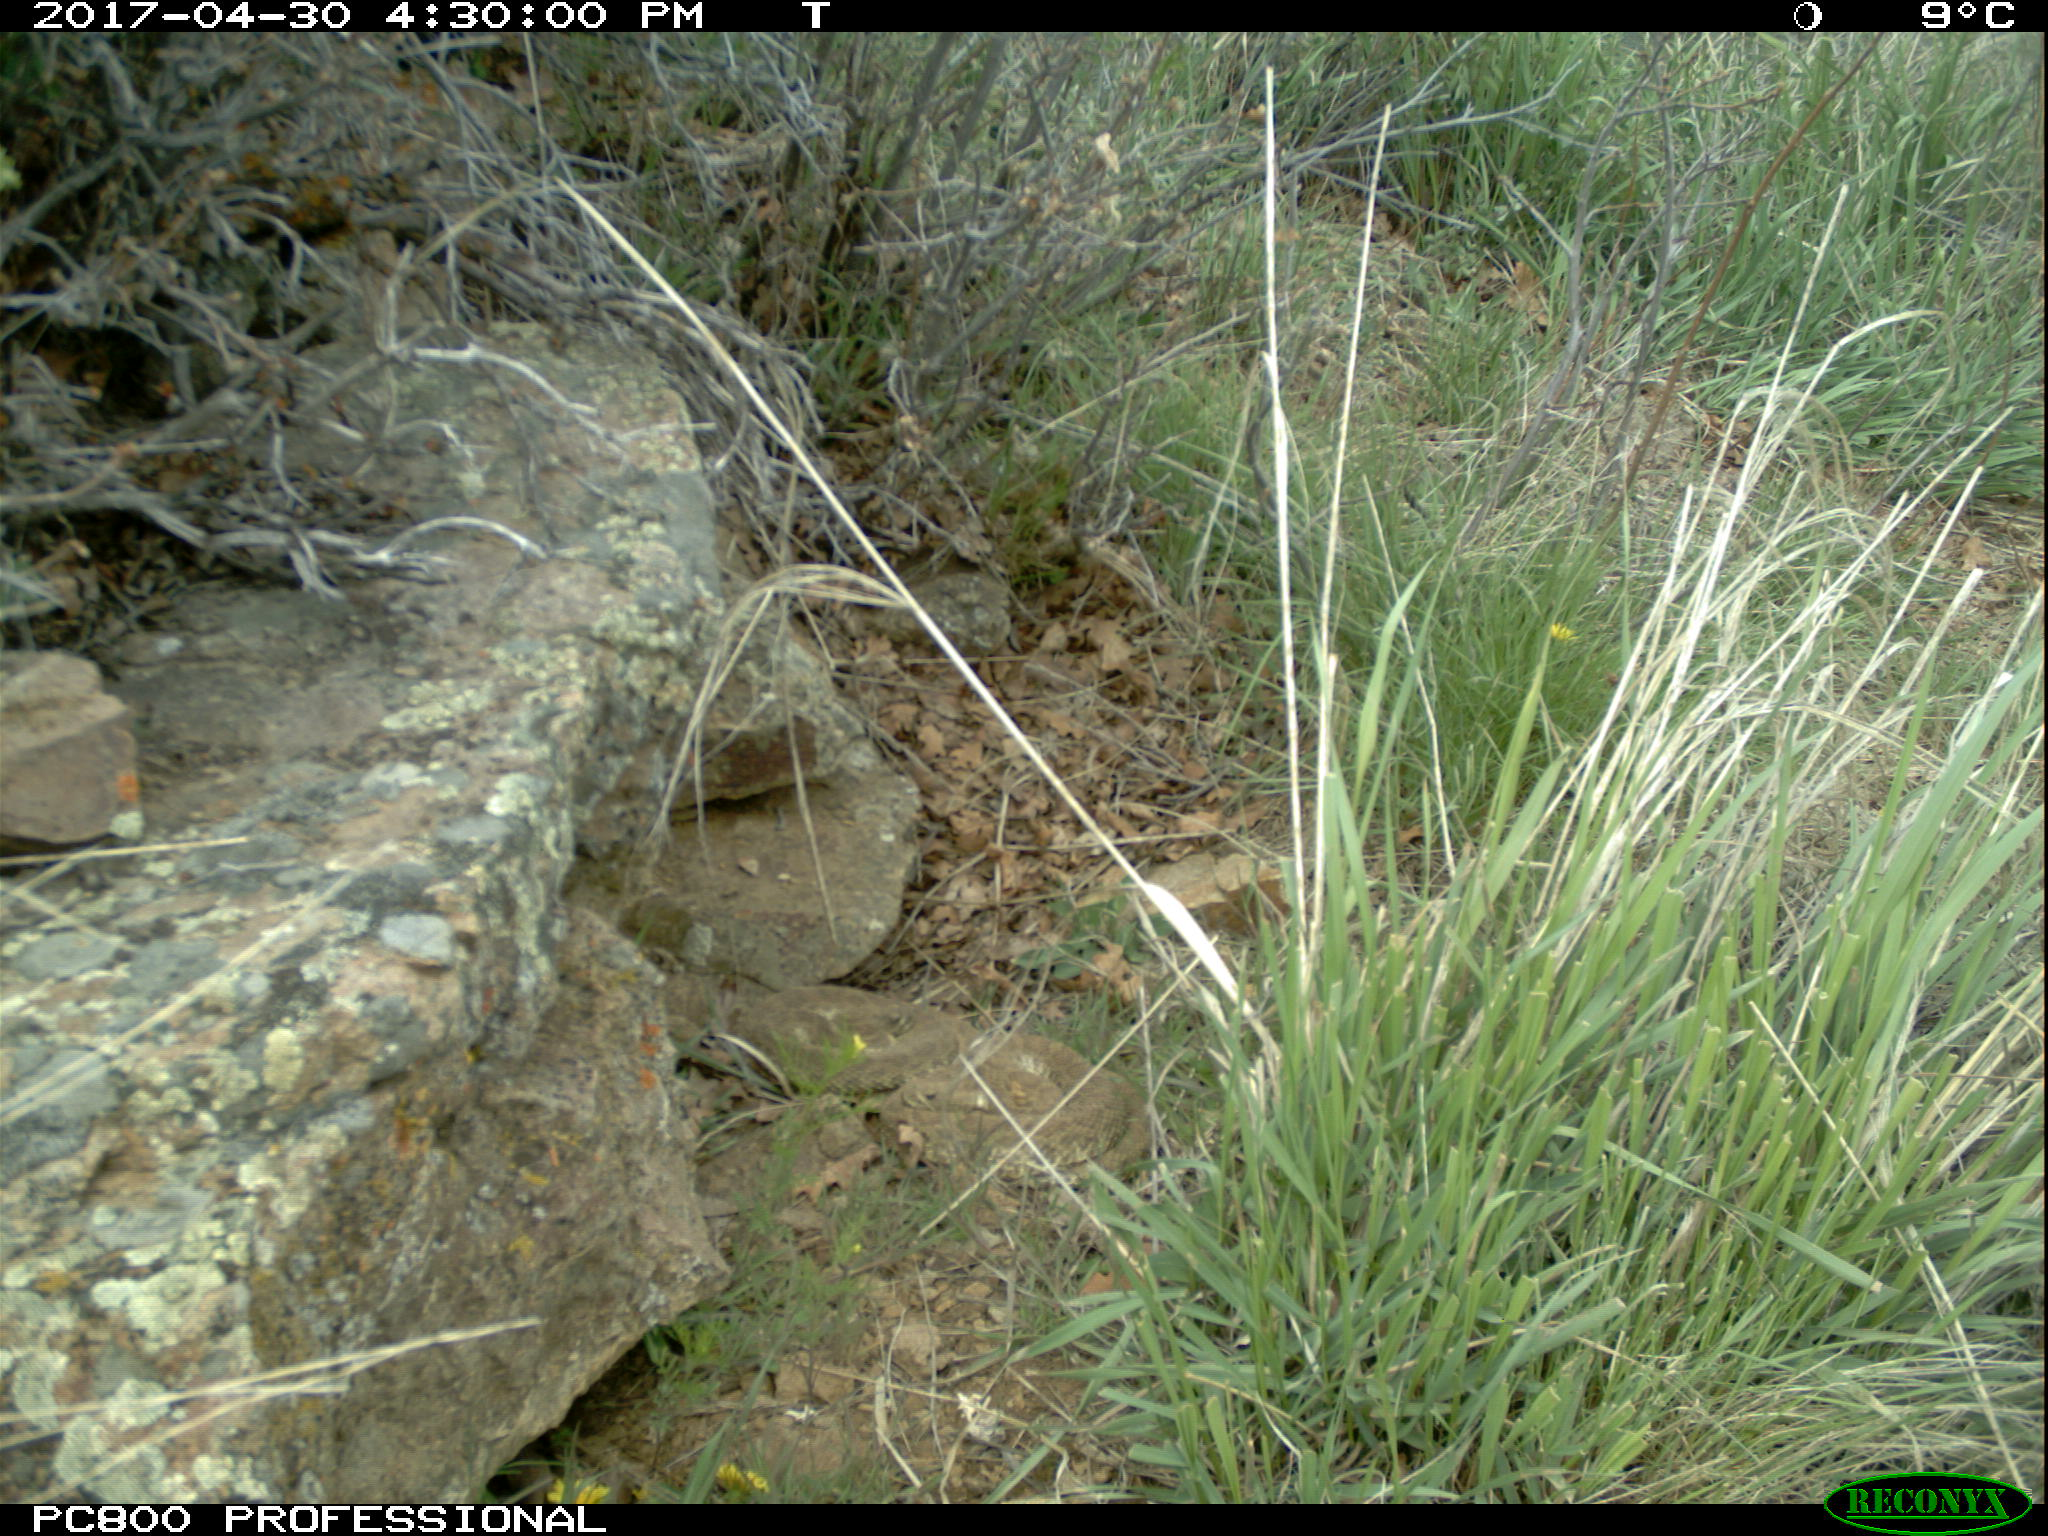snake: (727, 983, 1177, 1194)
